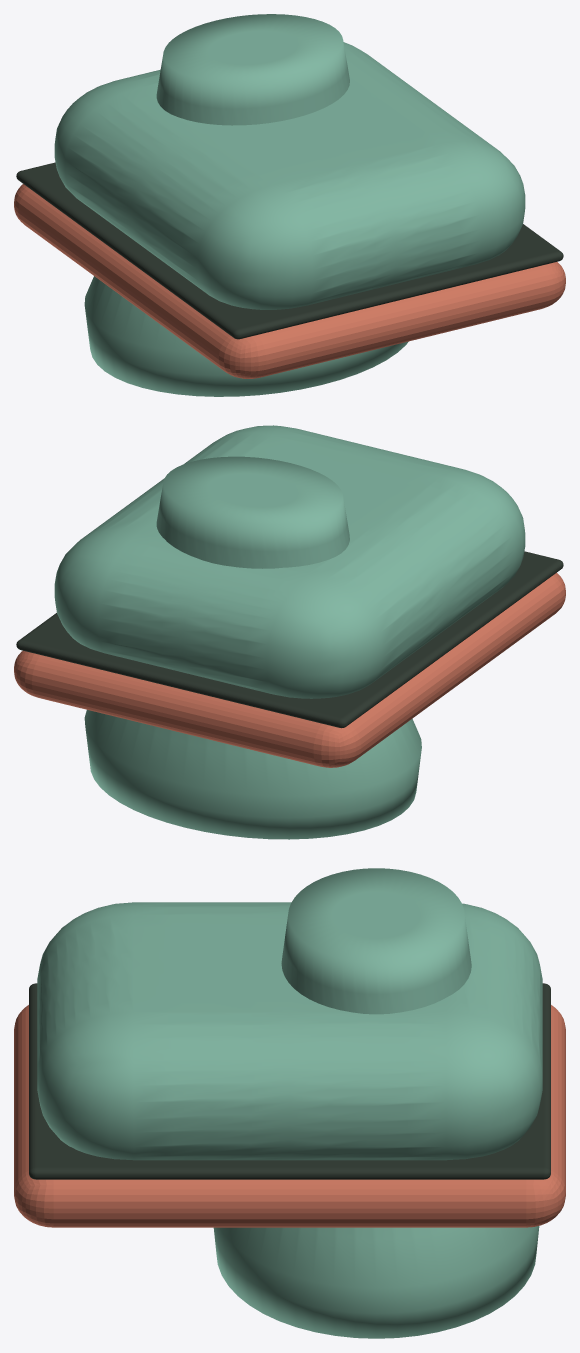
File: deadeye-leg-0.glb
The picture shows the model from 3 angles, top to bottom: view 1: azimuth 30°, elevation 25°; view 2: azimuth 150°, elevation 25°; view 3: azimuth 270°, elevation 25°; orthographic projection. The views are drawn at different scales.
Visible parts, largest first — view 1: foot_clay, foot_hardware (×2), lower_clay; view 2: foot_clay, lower_clay, foot_hardware (×2); view 3: foot_clay, lower_clay, foot_hardware (×2).
Part boxes in pixels (x1,y1,x2,y2): foot_clay: (54,42,525,309); foot_hardware (×2): (14,162,565,378); lower_clay: (84,14,408,396); foot_clay: (54,425,525,698); lower_clay: (84,456,421,839); foot_hardware (×2): (14,551,565,767); foot_clay: (37,902,542,1160); lower_clay: (213,868,539,1338); foot_hardware (×2): (14,983,565,1227).
Bounding box in the file's own units: 0.6164 × 0.494 × 0.7304.
